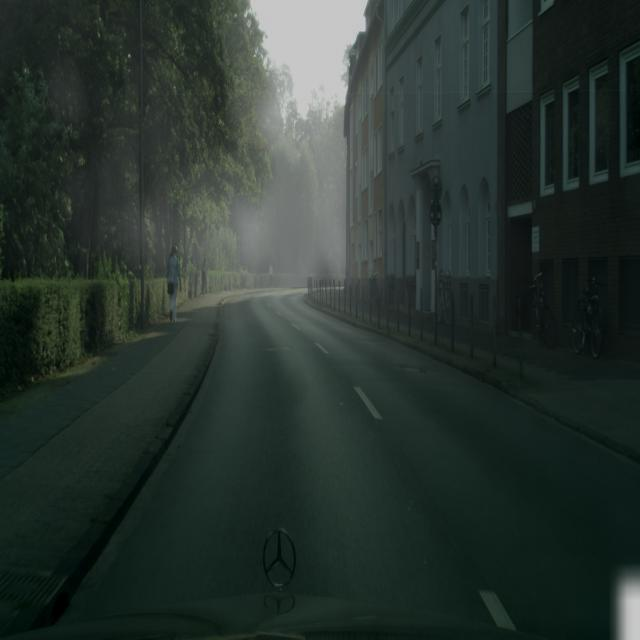car: (530, 271, 559, 349), (572, 285, 602, 359), (437, 271, 453, 324)
person: (167, 244, 181, 322), (268, 261, 274, 288)
